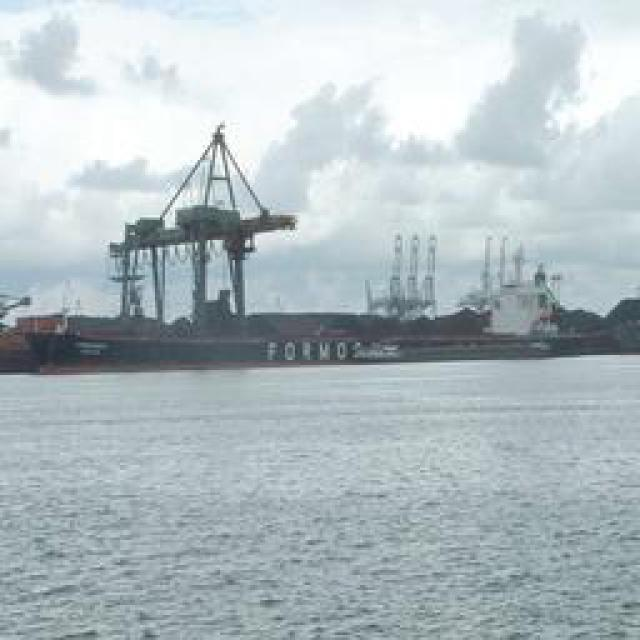Ship: (42, 126, 560, 364)
